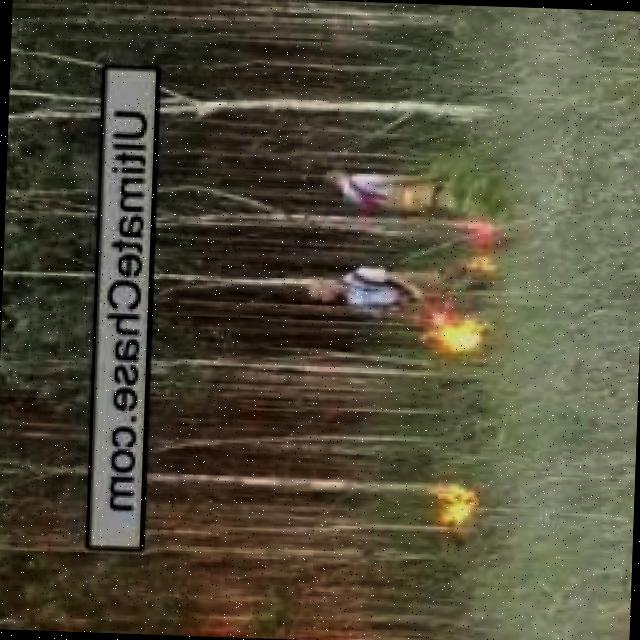fire: (425, 308, 495, 364), (457, 215, 506, 281), (420, 478, 480, 530)
